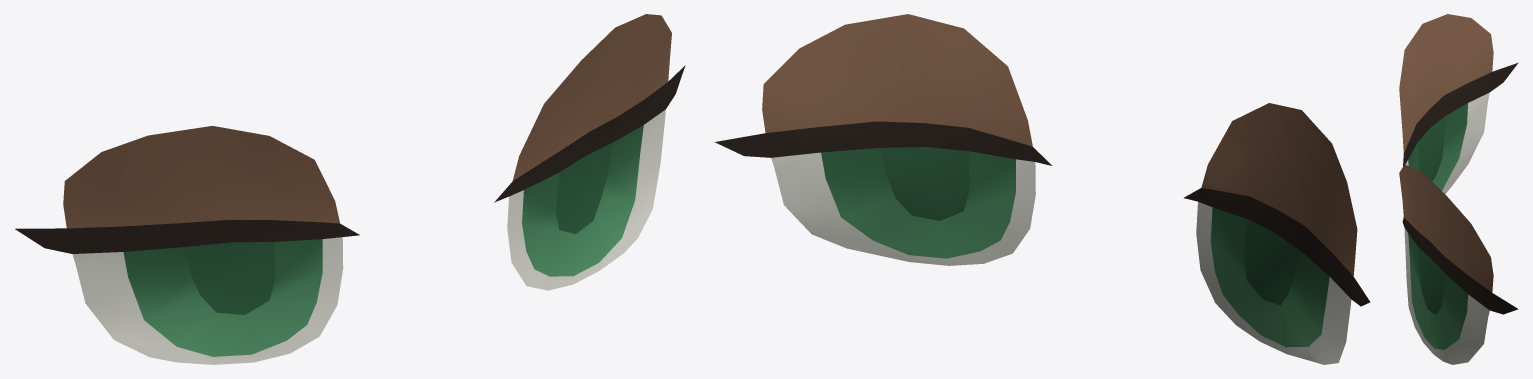
The model's file is Eye_Green_4.fbx.
3 renders of one model, left to right at view 1: azimuth 30°, elevation 25°; view 2: azimuth 150°, elevation 25°; view 3: azimuth 270°, elevation 25°, orthographic. The views are drawn at different scales.
Parts seen in each view (by area): view 1: Eye_Green_4; view 2: Eye_Green_4; view 3: Eye_Green_4.
Part boxes in pixels (x1=…): Eye_Green_4: x1=15, y1=14, x2=685, y2=364; Eye_Green_4: x1=714, y1=14, x2=1370, y2=364; Eye_Green_4: x1=1399, y1=14, x2=1518, y2=364.
Size of the model in its own units: 41.23 by 14.51 by 8.45.
